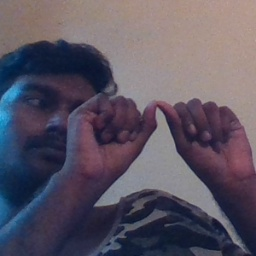A: (93, 89, 234, 182)
